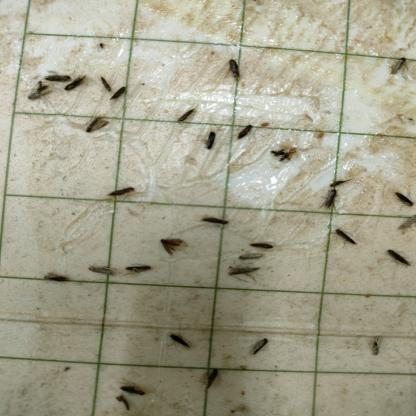prays_oleae: (384, 230, 412, 286), (327, 226, 366, 263), (154, 226, 191, 264), (242, 330, 278, 365), (97, 74, 132, 107), (86, 256, 119, 288), (220, 262, 270, 282), (124, 255, 154, 286), (198, 361, 227, 393), (167, 326, 193, 360), (199, 128, 221, 163), (65, 68, 89, 100), (222, 56, 245, 88), (45, 265, 70, 294), (386, 57, 409, 88), (80, 113, 113, 134), (117, 380, 145, 404), (102, 184, 137, 203), (168, 105, 198, 127), (42, 63, 71, 84), (237, 248, 265, 268), (390, 188, 416, 209), (320, 188, 339, 214), (234, 118, 254, 142), (250, 232, 276, 249), (203, 212, 234, 226)
